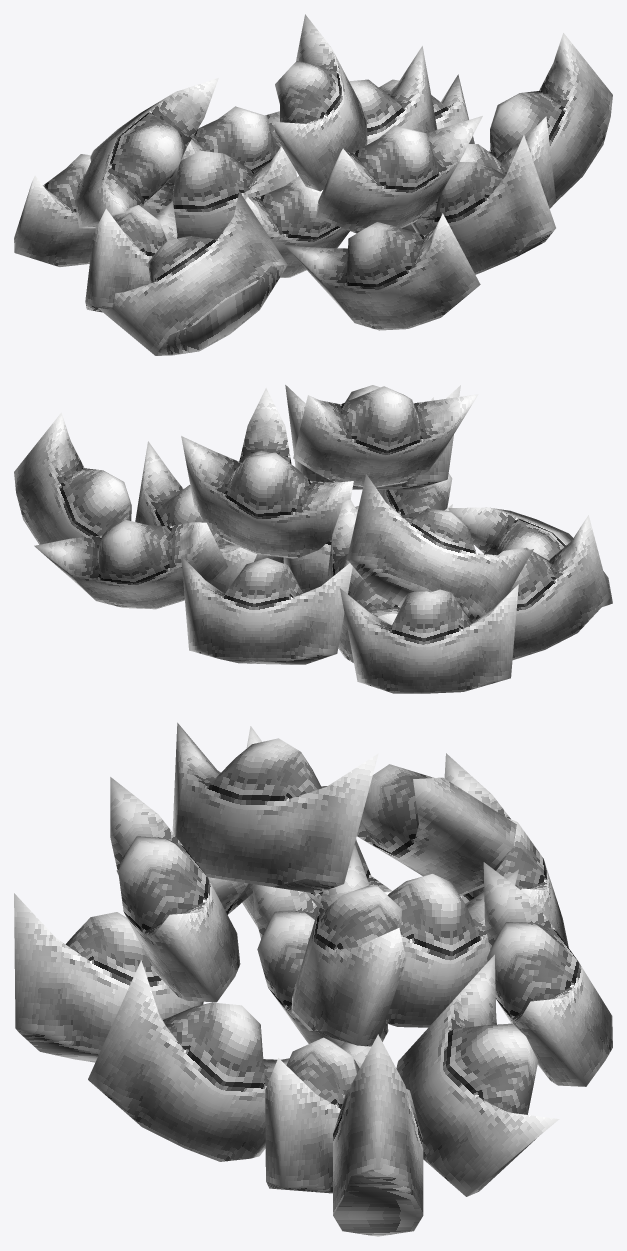
The model's file is skn_cl_jinbi.fbx.
3 views of the same model, one above another, from view 1: azimuth 30°, elevation 25°; view 2: azimuth 150°, elevation 25°; view 3: azimuth 270°, elevation 25° (orthographic). The views are drawn at different scales.
Parts seen in each view (by area): view 1: cl_yuanbao; view 2: cl_yuanbao; view 3: cl_yuanbao.
Boxes of the visible parts, <box> form: cl_yuanbao: <box>14,14,612,355</box>; cl_yuanbao: <box>14,385,612,693</box>; cl_yuanbao: <box>14,722,612,1236</box>.
Bounding box in the file's own units: 1.58 × 0.6838 × 1.06.
1 material, 1 textured.
